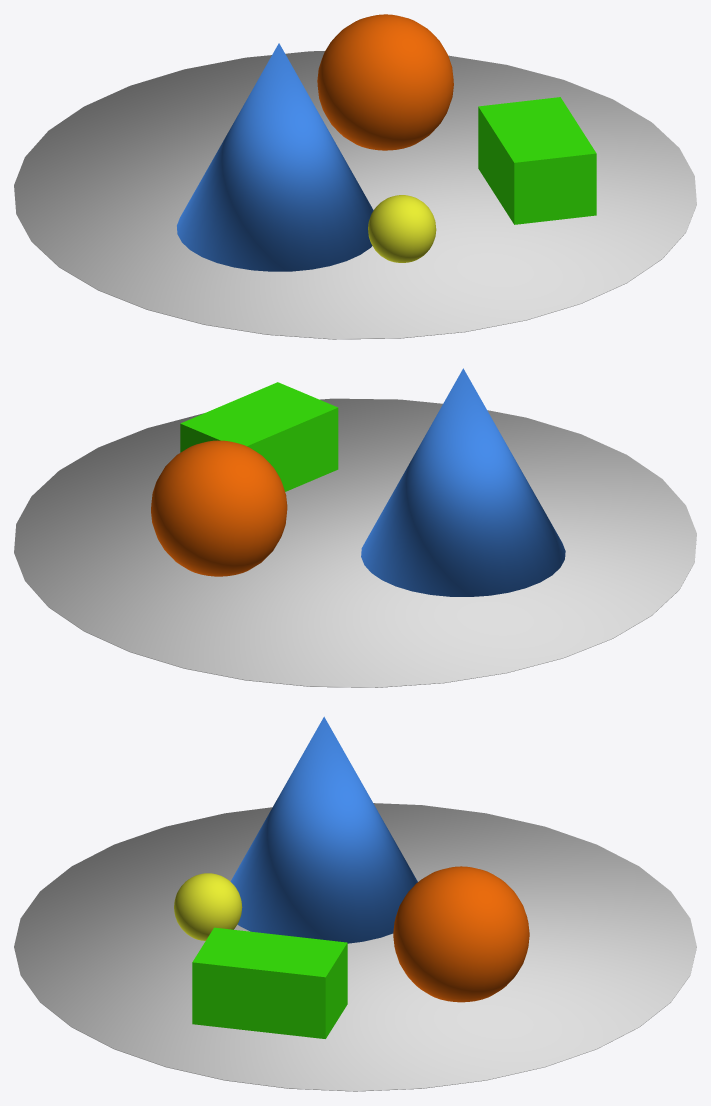
3 renders of one model, top to bottom at view 1: azimuth 30°, elevation 25°; view 2: azimuth 150°, elevation 25°; view 3: azimuth 270°, elevation 25°, orthographic.
Parts seen in each view (by area): view 1: Ground Plate, Cone, Big Sphere, Box, Little Sphere; view 2: Ground Plate, Cone, Big Sphere, Box; view 3: Ground Plate, Cone, Box, Big Sphere, Little Sphere.
Boxes of the visible parts, x1=… form: Ground Plate: x1=14, y1=51, x2=696, y2=339; Cone: x1=177, y1=43, x2=373, y2=271; Big Sphere: x1=317, y1=14, x2=453, y2=150; Box: x1=478, y1=97, x2=596, y2=224; Little Sphere: x1=368, y1=195, x2=436, y2=262; Ground Plate: x1=14, y1=398, x2=696, y2=687; Cone: x1=361, y1=368, x2=565, y2=596; Big Sphere: x1=151, y1=440, x2=287, y2=576; Box: x1=180, y1=382, x2=338, y2=491; Ground Plate: x1=14, y1=803, x2=696, y2=1091; Cone: x1=230, y1=716, x2=417, y2=943; Box: x1=192, y1=927, x2=347, y2=1038; Big Sphere: x1=393, y1=866, x2=529, y2=1002; Little Sphere: x1=174, y1=873, x2=242, y2=940.
Bounding box in the file's own units: 20 × 6.29 × 20.
